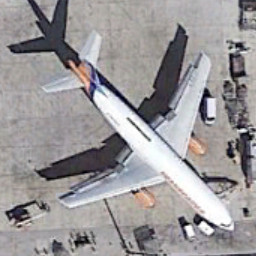Airplane: (26, 20, 243, 248)
